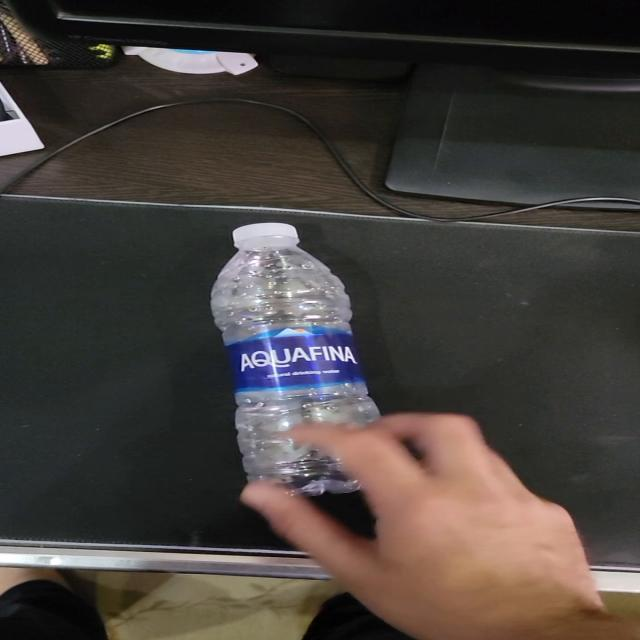Anorganik: (204, 223, 398, 507)
